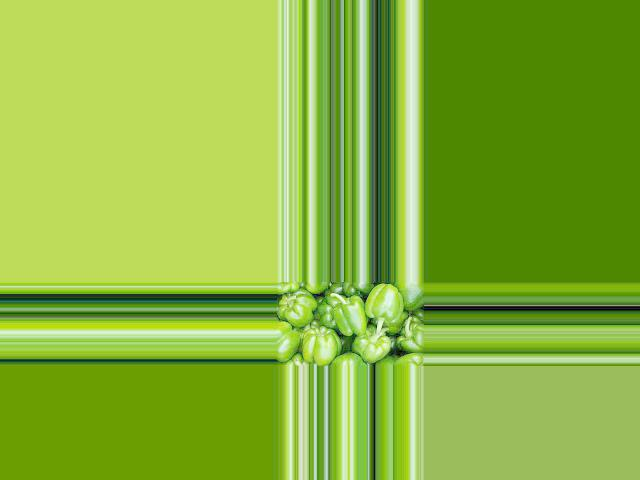bell_pepper: (391, 282, 424, 309)
